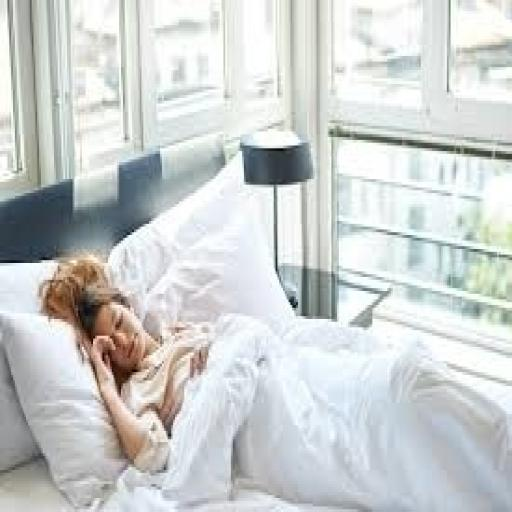sleeping: (38, 249, 508, 506)
